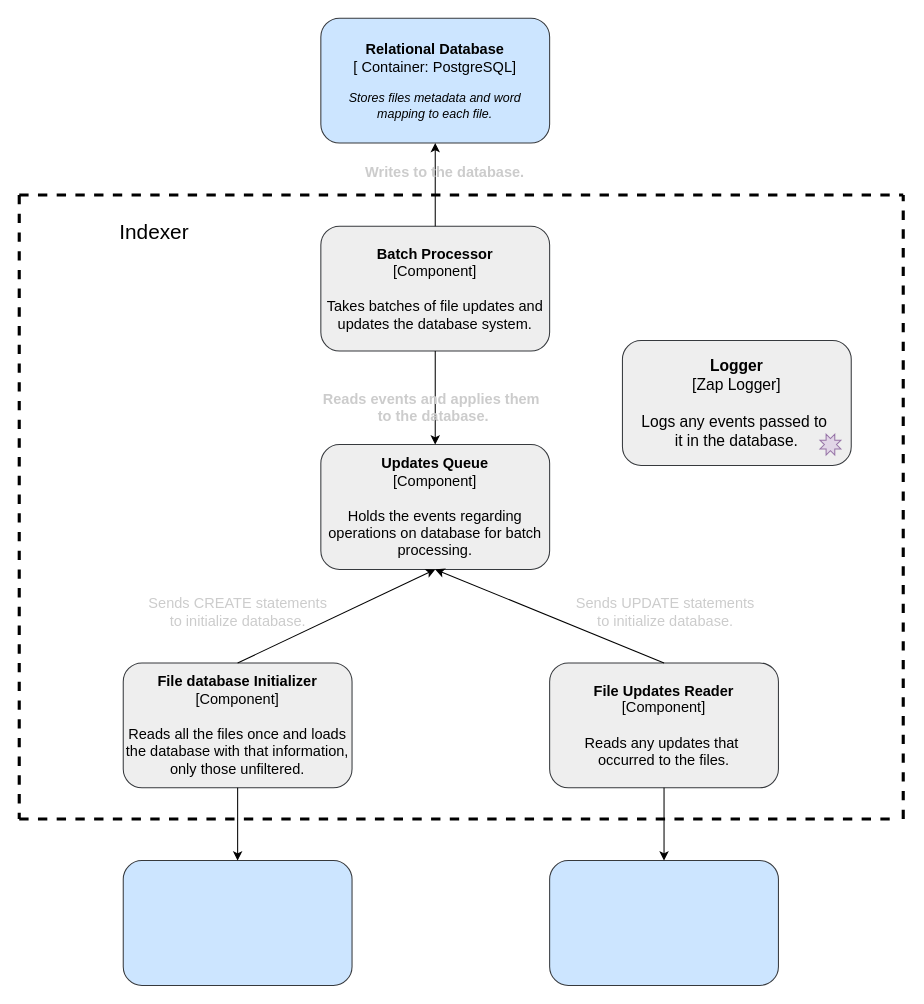
The diagram is 924 pixels wide and 1004 high, and some of its shapes have lost their labels. The centre of each missing label's shape, as x and y in pixels:
"Local File System [ OS File System]" belongs at [237,922].
"USN Journal [Windows File Changes Journal]" belongs at [663,922].
